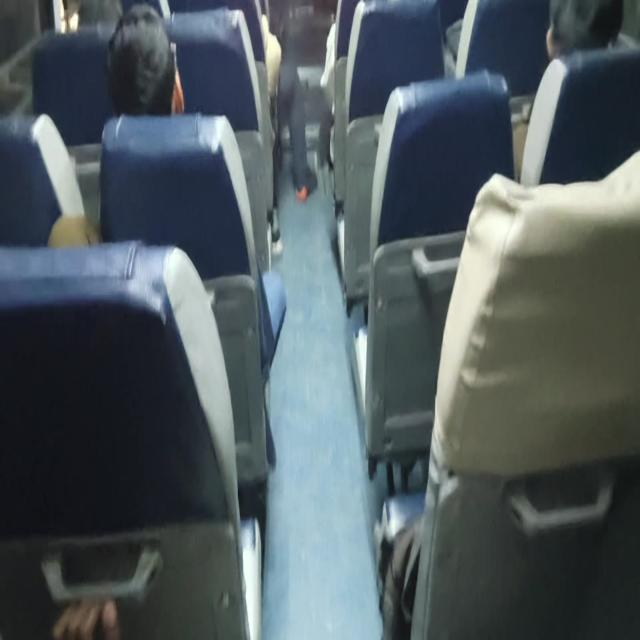person: (104, 3, 286, 376), (47, 3, 185, 247), (516, 0, 626, 180), (106, 3, 184, 116), (545, 0, 624, 62), (51, 597, 120, 638)
